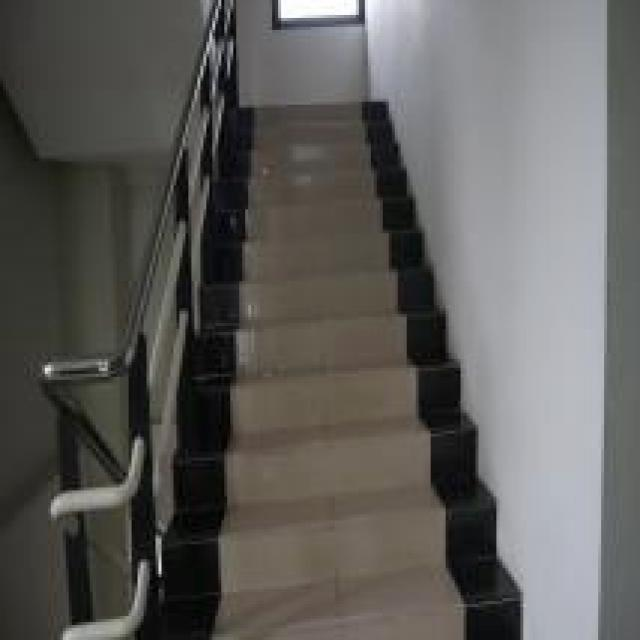upstair: (228, 84, 458, 640)
